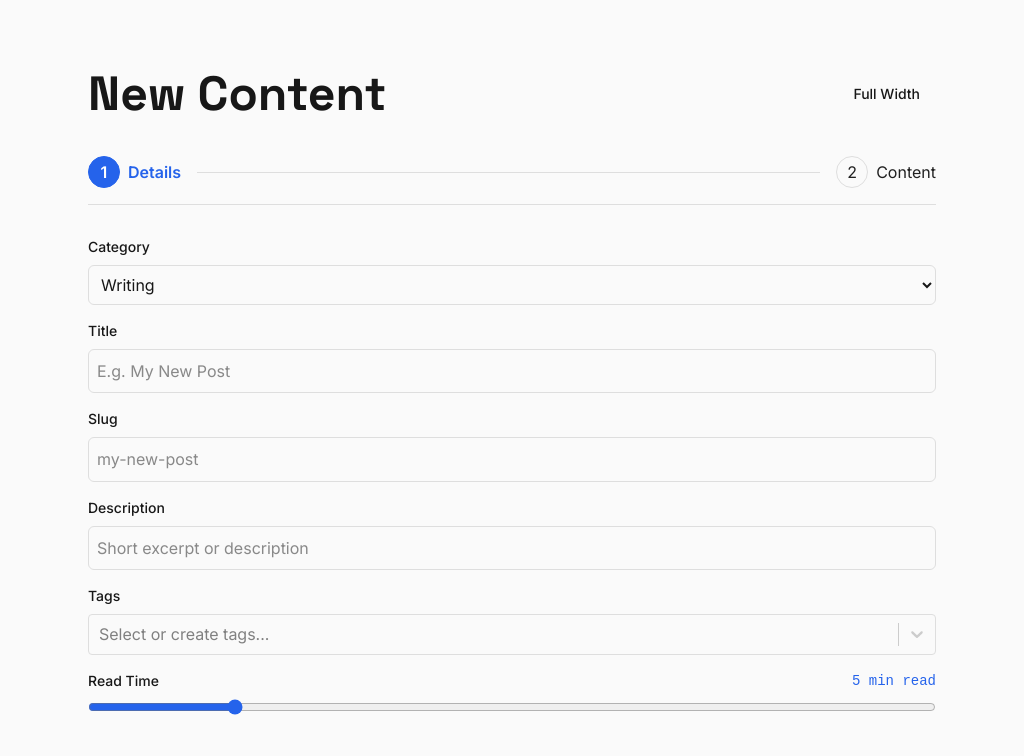
Scenario: AdminClient › allows changing category and toggling full width
The image size is (1024, 756).
Click the button "Full Width": [887, 94] box [837,76,936,112]
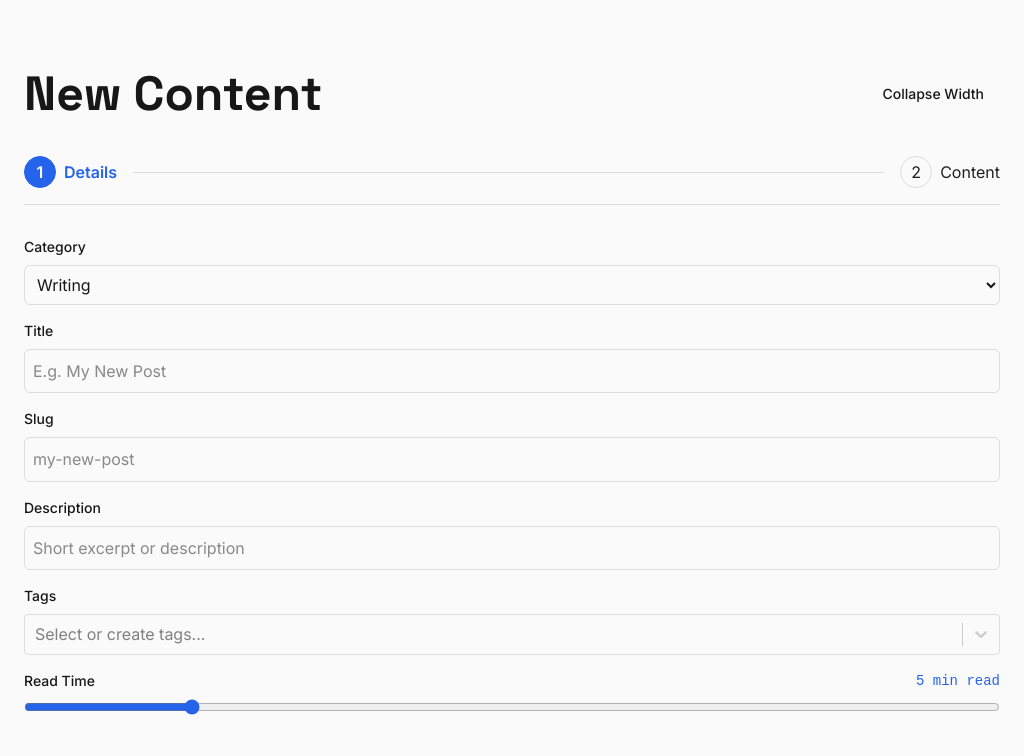
Result: the button "Collapse Width" is shown at [866,76,1000,112]
// Change category (it's the first select)
Select "Snippet" in the dropdown labelled "Category": [512, 285] box [24,265,1000,305]
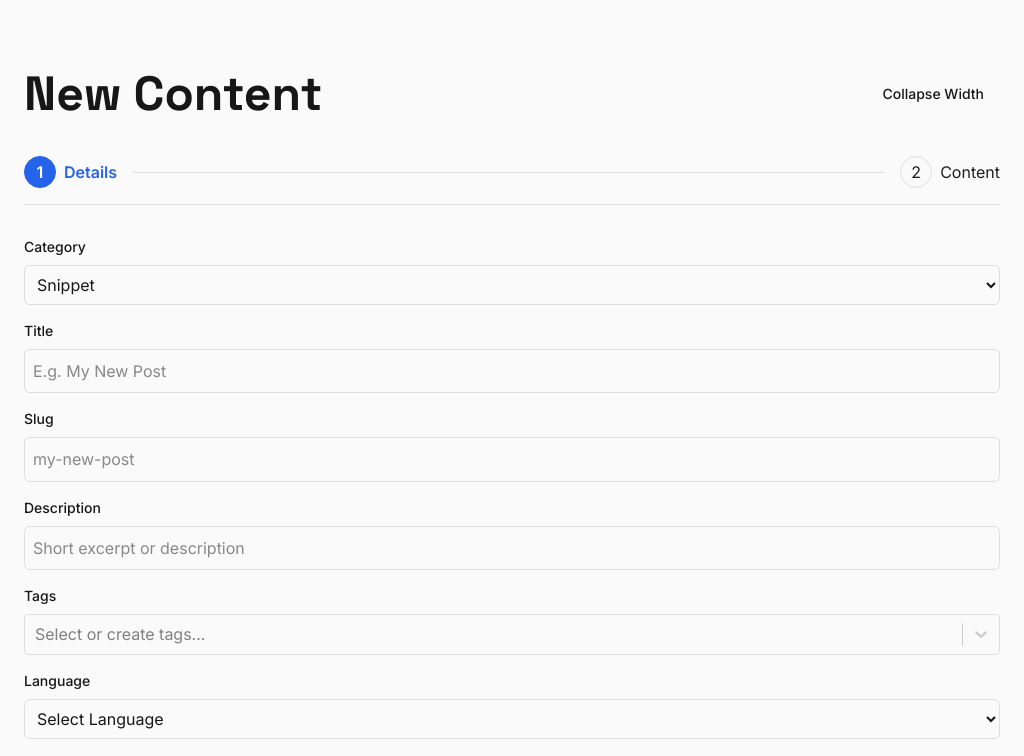
Result: the text "Language" is shown at [24,671,90,691]
